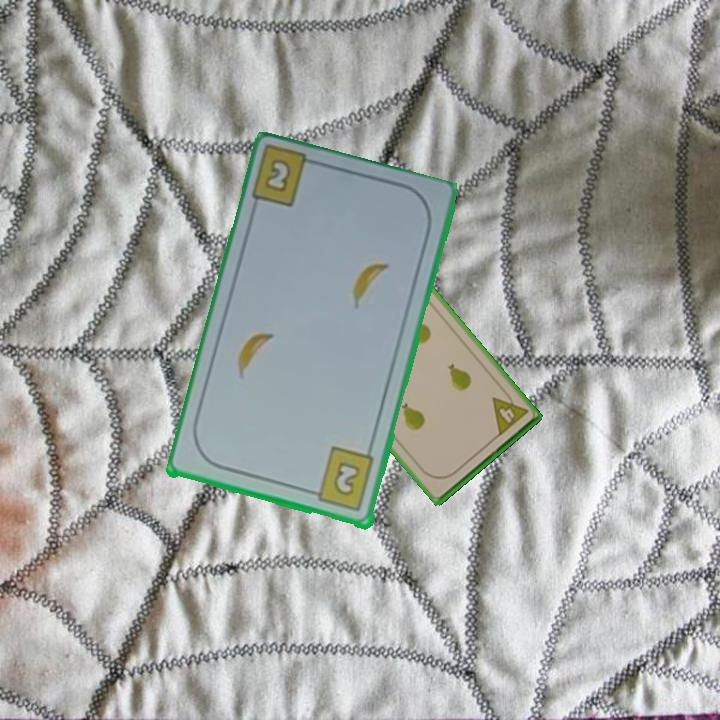2b: (305, 444, 378, 515), (261, 155, 295, 196)
4p: (488, 386, 531, 439)
